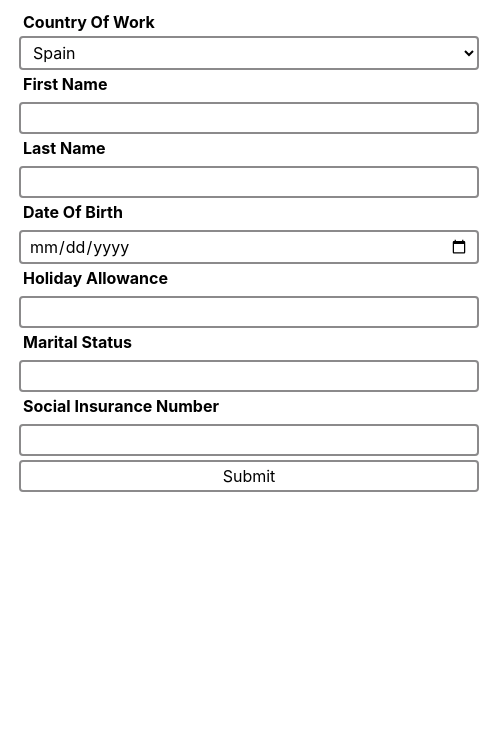
show error for less than 30 holiday days for Spain
Select "Spain" in the dropdown named "country of work" at (249, 53), box [19,36,479,70]
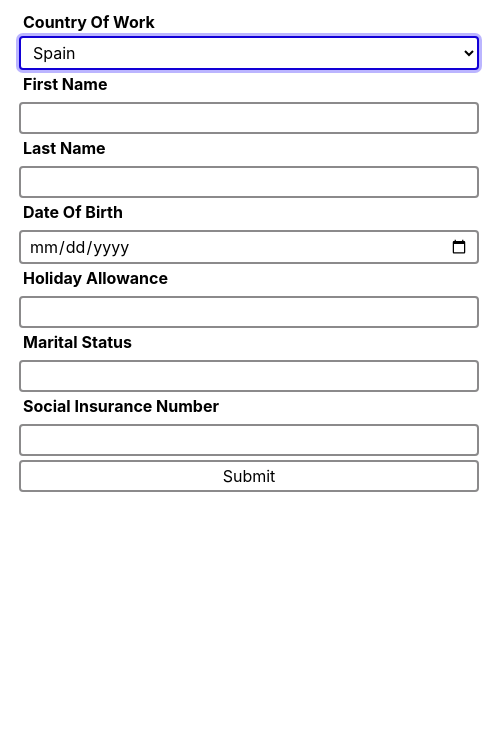
Type "29" into the field named "holiday allowance" at (249, 312), box [19,296,479,328]
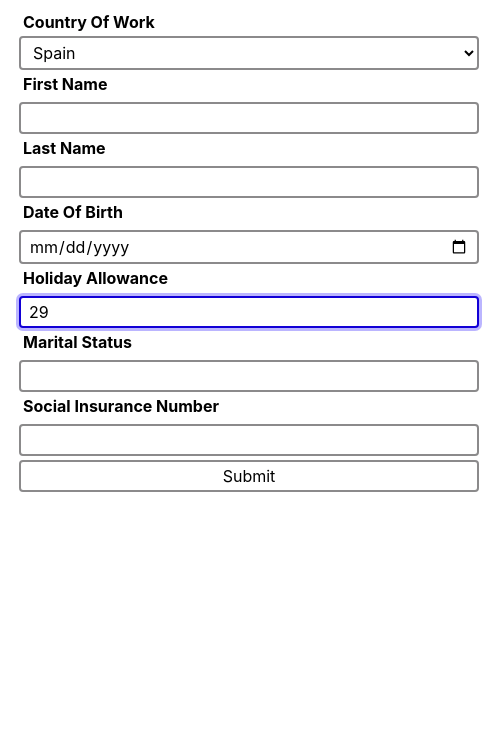
Click the button named "submit employee form" at (249, 476), box [19,460,479,492]
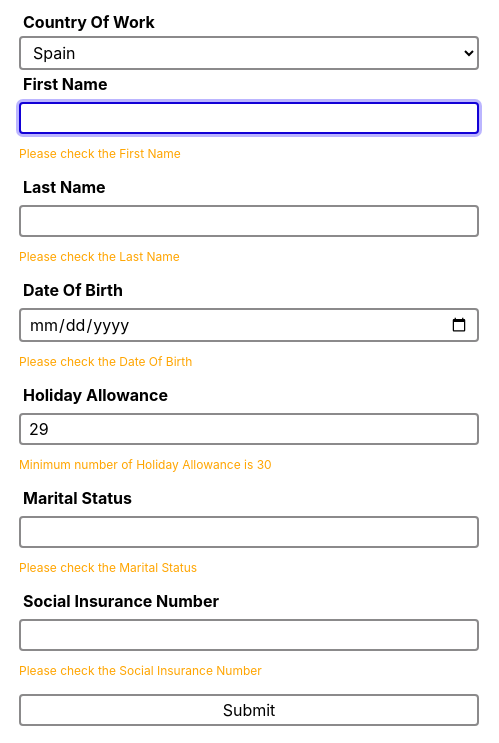
Result: the text "Minimum number of Holiday Allowance is 30" is shown at [19,457,272,472]
